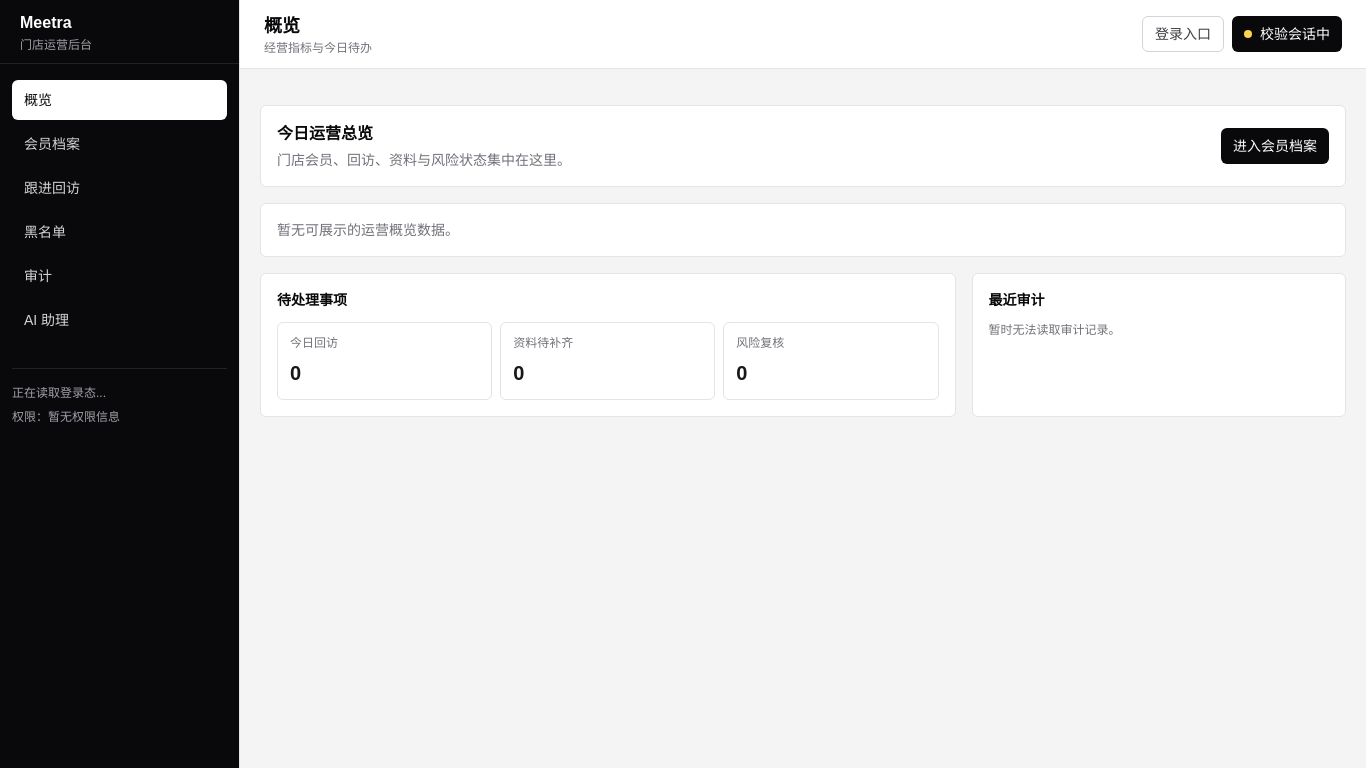
Test: 精简 V1 首页验收 › uses the shared AI assistant chat instead of the Query V2 workbench draft
The image size is (1366, 768).
Click the button "AI 助理" at (120,320), box [12, 300, 227, 340]
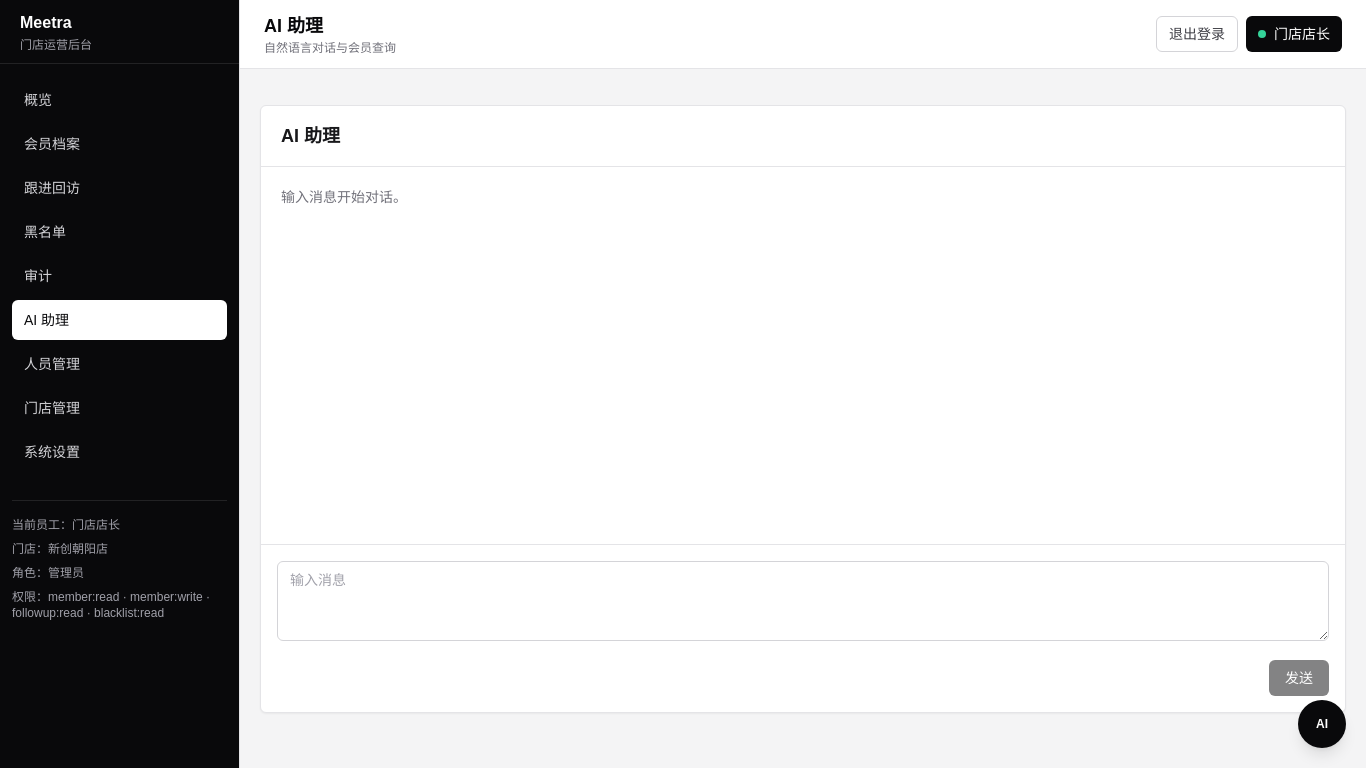
Type "你好" into the text box labelled "输入消息" at (803,601), box [277, 561, 1329, 641]
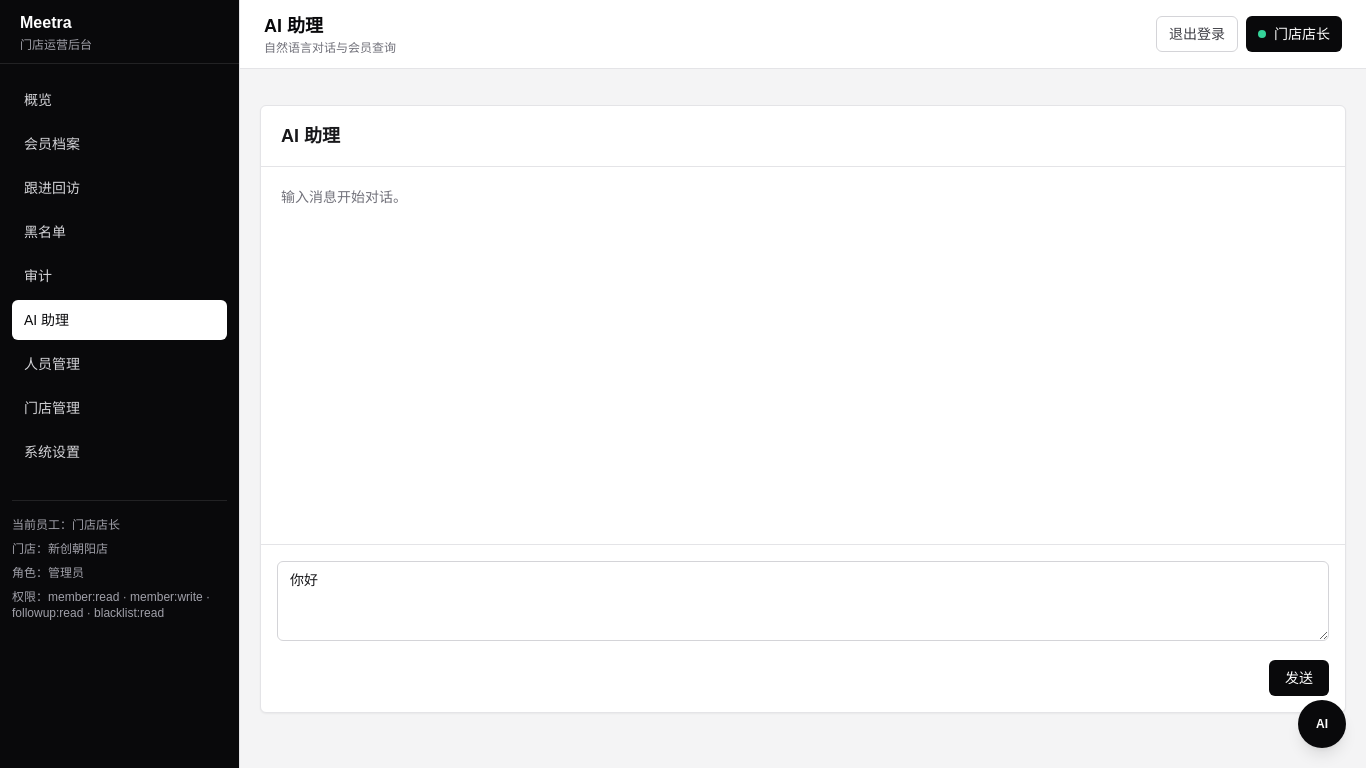
Click the button "发送" at (1299,678), box [1269, 660, 1329, 696]
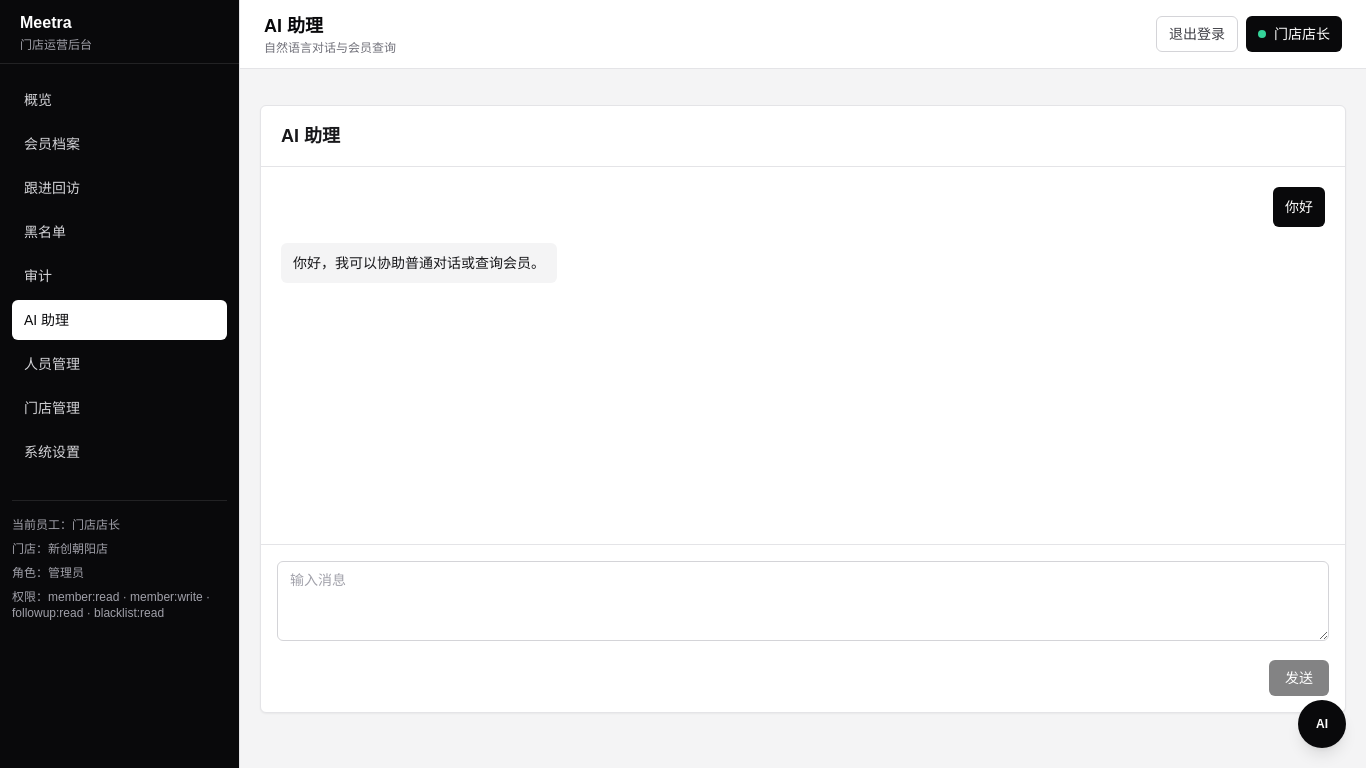
Check: the text "你好，我可以协助普通对话或查询会员。" is shown, box [293, 251, 545, 275]
